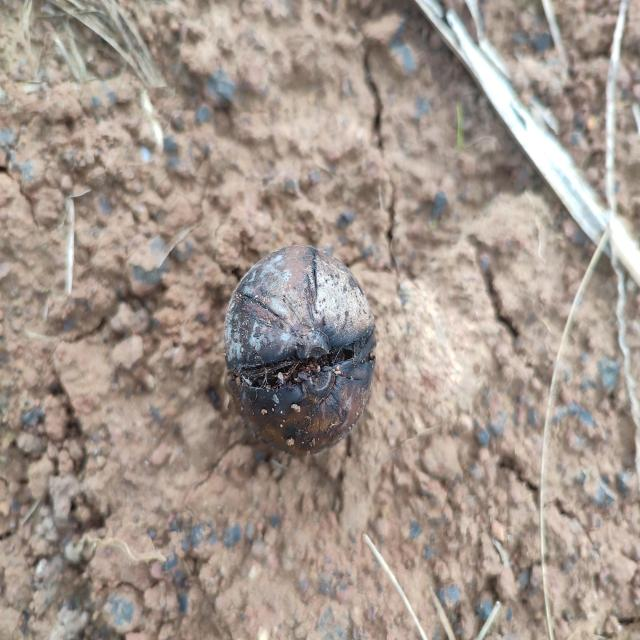damaged: (223, 246, 378, 454)
